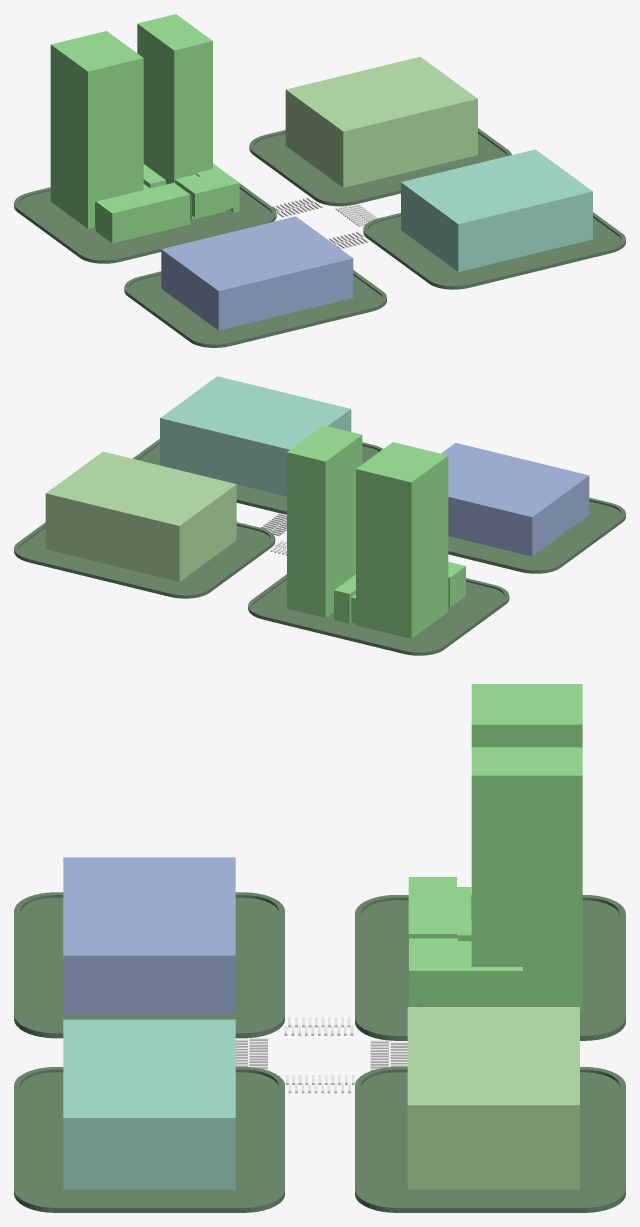
The model's file is building.glb.
The picture shows the model from 3 angles, top to bottom: view 1: azimuth 30°, elevation 25°; view 2: azimuth 150°, elevation 25°; view 3: azimuth 270°, elevation 25°; orthographic projection. The views are drawn at different scales.
Visible parts, largest first — view 1: Combined, Cube.007, Cube.006, Cube.005, Cube, Cube.003, Cube.004, Cube.002, Cube.014, Cube.008; view 2: Combined, Cube.007, Cube.006, Cube.005, Cube, Cube.002, Cube.004, Cube.003; view 3: Combined, Cube.007, Cube.006, Cube.005, Cube.003, Cube.002, Cube.004, Cube, Cube.014, Cube.034, Cube.009, Cube.008.
Boxes of the visible parts, x1,y1,x2,y2 form: Combined: (50,14,239,243); Cube.007: (285,56,477,187); Cube.006: (401,149,592,271); Cube.005: (161,216,353,330); Cube: (14,183,276,263); Cube.003: (363,212,625,289); Cube.004: (124,270,386,347); Cube.002: (249,128,511,206); Cube.014: (272,197,322,217); Cube.008: (335,204,377,226); Combined: (287,425,465,638); Cube.007: (45,451,236,581); Cube.006: (160,376,351,496); Cube.005: (441,442,589,556); Cube: (248,574,509,655); Cube.002: (14,522,275,598); Cube.004: (448,497,625,573); Cube.003: (133,439,382,514); Combined: (408,684,582,1010); Cube.007: (407,1007,579,1189); Cube.006: (63,1019,235,1189); Cube.005: (63,857,235,1014); Cube.003: (14,1067,284,1212); Cube.002: (355,1067,625,1212); Cube.004: (14,892,284,1038); Cube: (355,895,625,1040); Cube.014: (370,1040,407,1070); Cube.034: (235,1038,267,1070); Cube.009: (284,1017,353,1035); Cube.008: (285,1075,354,1093).
Size of what is drawn, in the model's own units: 160 by 57.03 by 131.
